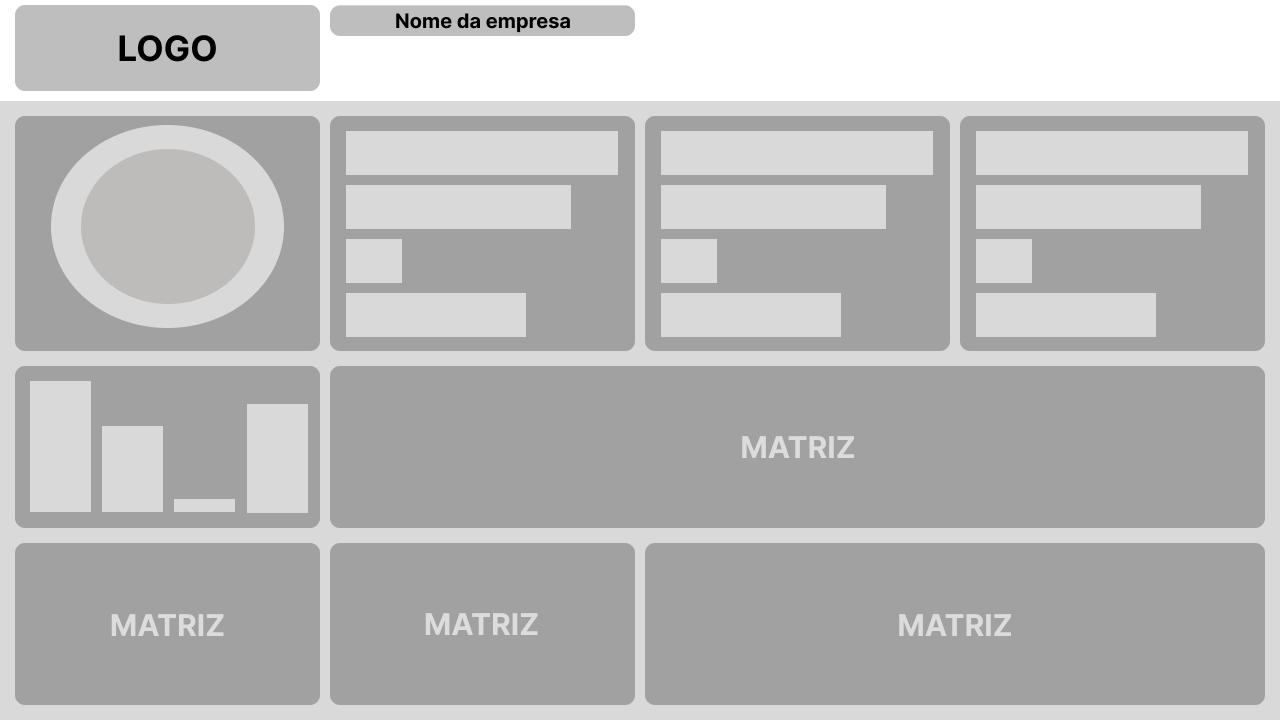

This screenshot's page, from the dashboard's own definition file:
{"tool":"powerbi","page":{"name":"Página 1","canvas":[1280,720],"ordinal":0},"visuals":[{"type":"pivotTable","fields":{"Rows":["Dim_Loja.Nome_Loja"],"Values":["Fato_Vendas.Total de Vendas","Fato_Vendas.Total de Unidades Vendidas","Medidas.Media de Unidades Vendidas","Tabela.Total Desconto","Fato_Vendas.Ticket Medio","Fato_Vendas.Rank Produtos Mais Vendidos"]},"box":[328.2,366.5,937.7,161.8],"z":0},{"type":"pivotTable","fields":{"Rows":["Dim_Loja.Cidade"],"Values":["Fato_Vendas.Total de Unidades Vendidas","Fato_Vendas.Media de Vendas","Fato_Vendas.% De Vendas Por Cidade","Medidas.Rank Unidades Vendidos Cidade"]},"box":[645.5,543.9,620.5,159.4],"z":1000},{"type":"columnChart","title":"Ticket Médio Por Loja","fields":{"Category":["Dim_Loja.Nome_Loja"],"Y":["Fato_Vendas.Ticket Medio"]},"box":[12.5,366.5,307.9,161.8],"z":2000},{"type":"pivotTable","fields":{"Values":["Fato_Vendas.% Por Tipo de Clinte","Fato_Vendas.Rank De Tipo Clientes"],"Rows":["Dim_Cliente.Tipo_Cliente"]},"box":[328.2,543.9,311.8,159.4],"z":3000},{"type":"donutChart","title":"Faturamento por Tamanho de Loja","fields":{"Category":["Dim_Loja.Tamanho_Loja"],"Y":["Fato_Vendas.Faturamento Total"]},"box":[12.5,114.9,307.9,237.6],"z":4000},{"type":"barChart","title":"Faturamento Por Categoria","fields":{"Category":["Dim_Produto.Categoria"],"Y":["Fato_Vendas.Faturamento Total"]},"box":[645.5,114.9,307.1,237.6],"z":5000},{"type":"barChart","title":"Volume de Vendas Por Estado","fields":{"Category":["Dim_Loja.Cidade"],"Y":["Fato_Vendas.Total de Unidades Vendidas"]},"box":[959.6,114.9,306.3,237.6],"z":6000},{"type":"clusteredBarChart","title":"Produtos Mais Vendidos","fields":{"Category":["Dim_Produto.Nome_Produto"],"Y":["Fato_Vendas.Total de Unidades Vendidas"]},"box":[328.2,114.9,306.3,237.6],"z":7000},{"type":"pivotTable","fields":{"Values":["Fato_Vendas.Faturamento Total","Fato_Vendas.Rank De Produto Por Faturamento"],"Rows":["Dim_Produto.Nome_Produto"]},"box":[12.5,543.9,307.9,159.4],"z":9000},{"type":"actionButton","box":[1157.3,28.9,108.6,50],"z":9001},{"type":"slicer","fields":{"Values":["D_Calendario.Ano"]},"box":[380.6,17.1,235,61.8],"z":9002}]}

Visuals, with their boxes in screenshot pixels (x1, y1, x2, y2), scaled from the page's 1280x720 canvas onto the 1280x720 screenshot:
pivotTable - Dim_Loja.Nome_Loja x Fato_Vendas.Total de Vendas: 328:366:1266:528
pivotTable - Dim_Loja.Cidade x Fato_Vendas.Total de Unidades Vendidas: 646:544:1266:703
"Ticket Médio Por Loja" columnChart: 12:366:320:528
pivotTable - Fato_Vendas.% Por Tipo de Clinte x Fato_Vendas.Rank De Tipo Clientes: 328:544:640:703
"Faturamento por Tamanho de Loja" donutChart: 12:115:320:352
"Faturamento Por Categoria" barChart: 646:115:953:352
"Volume de Vendas Por Estado" barChart: 960:115:1266:352
"Produtos Mais Vendidos" clusteredBarChart: 328:115:634:352
pivotTable - Fato_Vendas.Faturamento Total x Fato_Vendas.Rank De Produto Por Faturamento: 12:544:320:703
actionButton: 1157:29:1266:79
slicer - D_Calendario.Ano: 381:17:616:79
